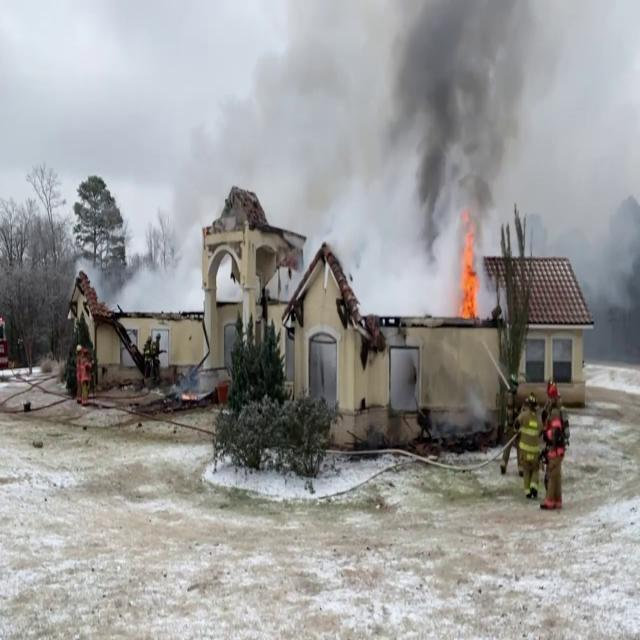Fire: (456, 222, 484, 324)
Smoke: (375, 0, 640, 287)
